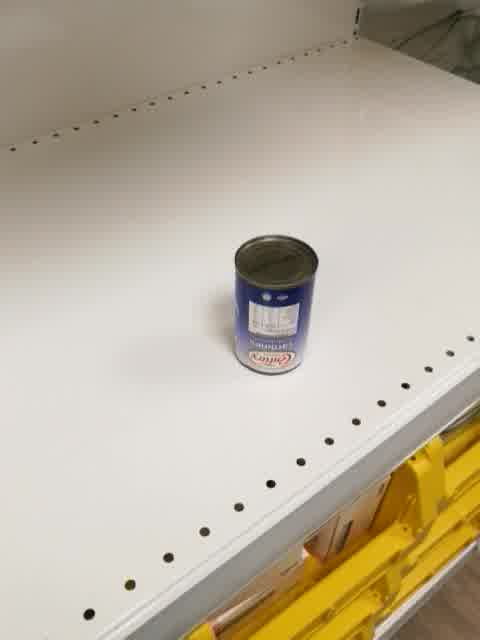sardine: (232, 233, 319, 377)
